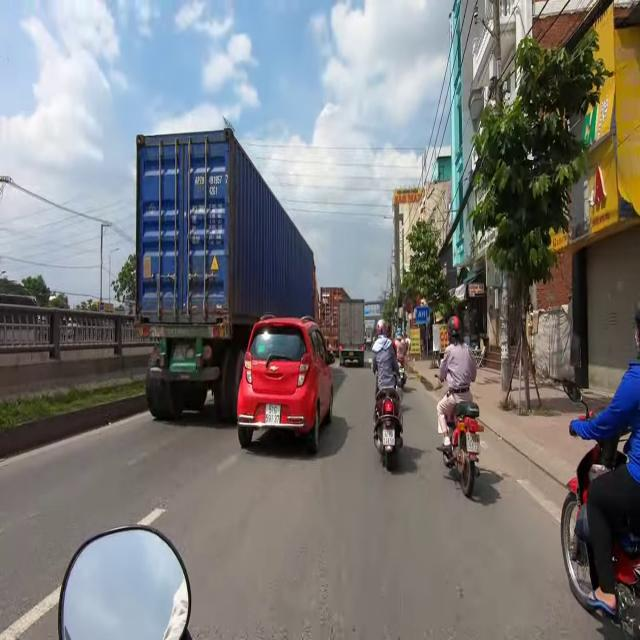bien_trang: (264, 402, 282, 428), (383, 426, 397, 449), (466, 433, 481, 454)
